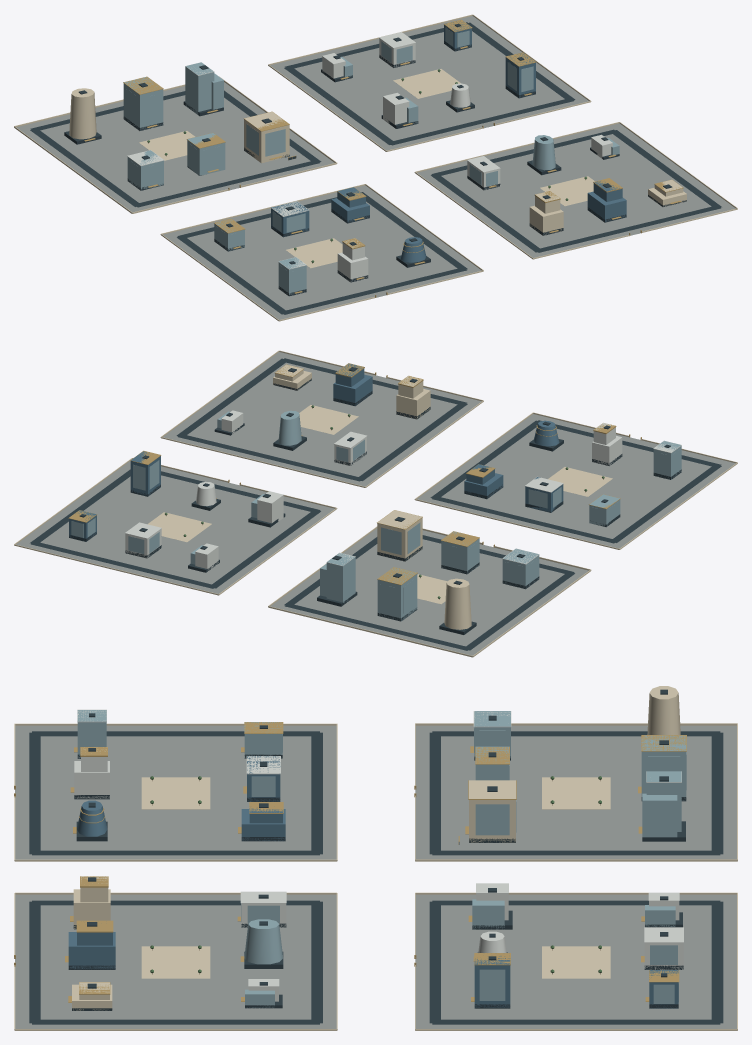
Rendered from GC-TILE-07-13.glb.
3 views of the same model, one above another, from view 1: azimuth 30°, elevation 25°; view 2: azimuth 150°, elevation 25°; view 3: azimuth 270°, elevation 25° (orthographic). The views are drawn at different scales.
Visible parts, largest first — view 1: GC-TILE-07-13-paving, GC-TILE-07-13-dark, GC-TILE-07-13-ivory, GC-TILE-07-13-glass, GC-TILE-07-13-white, GC-TILE-07-13-blue, GC-TILE-07-13-gold; view 2: GC-TILE-07-13-paving, GC-TILE-07-13-dark, GC-TILE-07-13-ivory, GC-TILE-07-13-glass, GC-TILE-07-13-white, GC-TILE-07-13-blue, GC-TILE-07-13-gold; view 3: GC-TILE-07-13-paving, GC-TILE-07-13-dark, GC-TILE-07-13-ivory, GC-TILE-07-13-glass, GC-TILE-07-13-white, GC-TILE-07-13-blue, GC-TILE-07-13-gold.
Part boxes in pixels (<box>): GC-TILE-07-13-paving: <box>16,16,735,319</box>; GC-TILE-07-13-dark: <box>30,22,721,314</box>; GC-TILE-07-13-ivory: <box>14,14,737,321</box>; GC-TILE-07-13-glass: <box>123,27,619,295</box>; GC-TILE-07-13-white: <box>127,32,612,282</box>; GC-TILE-07-13-blue: <box>271,20,626,262</box>; GC-TILE-07-13-gold: <box>84,19,683,297</box>; GC-TILE-07-13-paving: <box>16,352,735,655</box>; GC-TILE-07-13-dark: <box>30,358,721,650</box>; GC-TILE-07-13-ivory: <box>14,350,737,657</box>; GC-TILE-07-13-glass: <box>71,410,681,621</box>; GC-TILE-07-13-white: <box>125,410,681,570</box>; GC-TILE-07-13-blue: <box>69,363,563,541</box>; GC-TILE-07-13-gold: <box>68,363,641,585</box>; GC-TILE-07-13-paving: <box>15,725,736,1028</box>; GC-TILE-07-13-dark: <box>29,689,723,1024</box>; GC-TILE-07-13-ivory: <box>14,686,737,1030</box>; GC-TILE-07-13-glass: <box>77,710,686,1008</box>; GC-TILE-07-13-white: <box>74,709,683,1001</box>; GC-TILE-07-13-blue: <box>68,756,678,1008</box>; GC-TILE-07-13-gold: <box>14,722,686,1002</box>.
Bounding box in the file's own units: 759 × 71.41 × 760.
